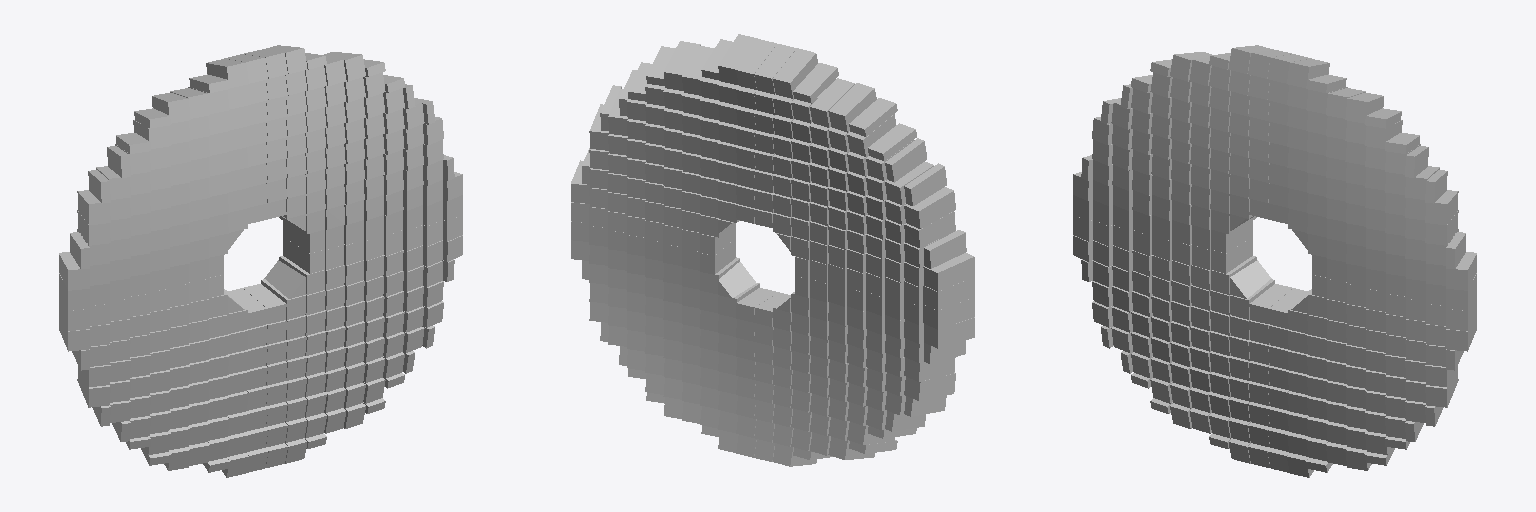
The model's file is EEplus.obj.
The picture shows the model from 3 angles: view 1: azimuth 30°, elevation 25°; view 2: azimuth 150°, elevation 25°; view 3: azimuth 330°, elevation 25°; orthographic projection.
Parts seen in each view (by area): view 1: Mesh157 eregalgo_EESCEnv5_materials_Air1 lp_eregalgo_EESCEnv5_2 , Mesh345 eregalgo_EESCEnv1_materials_Air152 lp_eregalgo_EESCEnv1_, Mesh453 eregalgo_EESCEnv1_materials_Air206 lp_eregalgo_EESCEnv1_, Mesh397 eregalgo_EESCEnv1_materials_Air178 lp_eregalgo_EESCEnv1_, Mesh159 eregalgo_EESCEnv6_materials_Air1 lp_eregalgo_EESCEnv6_2 , Mesh449 eregalgo_EESCEnv1_materials_Air204 lp_eregalgo_EESCEnv1_, Mesh311 eregalgo_EESCEnv4_materials_Air1 lp_eregalgo_EESCEnv4_2 , Mesh3 eregalgo_EESCEnv6_materials_Air lp_eregalgo_EESCEnv6_1 lp_, Mesh623 eregalgo_EESCEnv4_materials_Air3 lp_eregalgo_EESCEnv4_4 , Mesh447 eregalgo_EESCEnv1_materials_Air203 lp_eregalgo_EESCEnv1_, Mesh605 eregalgo_EESCEnv1_materials_Air273 lp_eregalgo_EESCEnv1_, Mesh379 eregalgo_EESCEnv1_materials_Air169 lp_eregalgo_EESCEnv1_ (+17 smaller); view 2: Mesh397 eregalgo_EESCEnv1_materials_Air178 lp_eregalgo_EESCEnv1_, Mesh449 eregalgo_EESCEnv1_materials_Air204 lp_eregalgo_EESCEnv1_, Mesh453 eregalgo_EESCEnv1_materials_Air206 lp_eregalgo_EESCEnv1_, Mesh345 eregalgo_EESCEnv1_materials_Air152 lp_eregalgo_EESCEnv1_, Mesh463 eregalgo_EESCEnv3_materials_Air7 lp_eregalgo_EESCEnv3_8 , Mesh465 eregalgo_EESCEnv3_materials_Air8 lp_eregalgo_EESCEnv3_9 , Mesh461 eregalgo_EESCEnv3_materials_Air6 lp_eregalgo_EESCEnv3_7 , Mesh455 eregalgo_EESCEnv2_materials_Air6 lp_eregalgo_EESCEnv2_7 , Mesh451 eregalgo_EESCEnv1_materials_Air205 lp_eregalgo_EESCEnv1_, Mesh457 eregalgo_EESCEnv2_materials_Air7 lp_eregalgo_EESCEnv2_8 , Mesh607 eregalgo_EESCEnv1_materials_Air274 lp_eregalgo_EESCEnv1_, Mesh447 eregalgo_EESCEnv1_materials_Air203 lp_eregalgo_EESCEnv1_ (+26 smaller); view 3: Mesh469 eregalgo_EESCEnv5_materials_Air3 lp_eregalgo_EESCEnv5_4 , Mesh33 eregalgo_EESCEnv1_materials_Air14 lp_eregalgo_EESCEnv1_15, Mesh141 eregalgo_EESCEnv1_materials_Air68 lp_eregalgo_EESCEnv1_6, Mesh85 eregalgo_EESCEnv1_materials_Air40 lp_eregalgo_EESCEnv1_41, Mesh137 eregalgo_EESCEnv1_materials_Air66 lp_eregalgo_EESCEnv1_6, Mesh471 eregalgo_EESCEnv6_materials_Air3 lp_eregalgo_EESCEnv6_4 , Mesh623 eregalgo_EESCEnv4_materials_Air3 lp_eregalgo_EESCEnv4_4 , Mesh315 eregalgo_EESCEnv6_materials_Air2 lp_eregalgo_EESCEnv6_3 , Mesh311 eregalgo_EESCEnv4_materials_Air1 lp_eregalgo_EESCEnv4_2 , Mesh135 eregalgo_EESCEnv1_materials_Air65 lp_eregalgo_EESCEnv1_6, Mesh293 eregalgo_EESCEnv1_materials_Air135 lp_eregalgo_EESCEnv1_, Mesh67 eregalgo_EESCEnv1_materials_Air31 lp_eregalgo_EESCEnv1_32 (+17 smaller).
Part boxes in pixels (x1,y1,x2,y2): Mesh157 eregalgo_EESCEnv5_materials_Air1 lp_eregalgo_EESCEnv5_2 : (264,260,305,298); Mesh345 eregalgo_EESCEnv1_materials_Air152 lp_eregalgo_EESCEnv1_: (206,59,248,87); Mesh453 eregalgo_EESCEnv1_materials_Air206 lp_eregalgo_EESCEnv1_: (59,252,89,290); Mesh397 eregalgo_EESCEnv1_materials_Air178 lp_eregalgo_EESCEnv1_: (152,93,190,123); Mesh159 eregalgo_EESCEnv6_materials_Air1 lp_eregalgo_EESCEnv6_2 : (283,237,324,273); Mesh449 eregalgo_EESCEnv1_materials_Air204 lp_eregalgo_EESCEnv1_: (77,190,110,224); Mesh311 eregalgo_EESCEnv4_materials_Air1 lp_eregalgo_EESCEnv4_2 : (243,284,286,323); Mesh3 eregalgo_EESCEnv6_materials_Air lp_eregalgo_EESCEnv6_1 lp_: (283,221,324,253); Mesh623 eregalgo_EESCEnv4_materials_Air3 lp_eregalgo_EESCEnv4_4 : (228,288,266,328); Mesh447 eregalgo_EESCEnv1_materials_Air203 lp_eregalgo_EESCEnv1_: (77,210,110,245); Mesh605 eregalgo_EESCEnv1_materials_Air273 lp_eregalgo_EESCEnv1_: (77,366,110,407); Mesh379 eregalgo_EESCEnv1_materials_Air169 lp_eregalgo_EESCEnv1_: (170,88,209,118); Mesh397 eregalgo_EESCEnv1_materials_Air178 lp_eregalgo_EESCEnv1_: (828,83,876,132); Mesh449 eregalgo_EESCEnv1_materials_Air204 lp_eregalgo_EESCEnv1_: (904,187,955,228); Mesh453 eregalgo_EESCEnv1_materials_Air206 lp_eregalgo_EESCEnv1_: (923,253,974,291); Mesh345 eregalgo_EESCEnv1_materials_Air152 lp_eregalgo_EESCEnv1_: (773,48,817,98); Mesh463 eregalgo_EESCEnv3_materials_Air7 lp_eregalgo_EESCEnv3_8 : (904,163,946,205); Mesh465 eregalgo_EESCEnv3_materials_Air8 lp_eregalgo_EESCEnv3_9 : (924,230,966,268); Mesh461 eregalgo_EESCEnv3_materials_Air6 lp_eregalgo_EESCEnv3_7 : (885,138,926,182); Mesh455 eregalgo_EESCEnv2_materials_Air6 lp_eregalgo_EESCEnv2_7 : (793,63,838,103); Mesh451 eregalgo_EESCEnv1_materials_Air205 lp_eregalgo_EESCEnv1_: (923,277,974,310); Mesh457 eregalgo_EESCEnv2_materials_Air7 lp_eregalgo_EESCEnv2_8 : (849,98,897,136); Mesh607 eregalgo_EESCEnv1_materials_Air274 lp_eregalgo_EESCEnv1_: (923,297,974,329); Mesh447 eregalgo_EESCEnv1_materials_Air203 lp_eregalgo_EESCEnv1_: (904,211,955,248); Mesh469 eregalgo_EESCEnv5_materials_Air3 lp_eregalgo_EESCEnv5_4 : (1230,260,1271,298); Mesh33 eregalgo_EESCEnv1_materials_Air14 lp_eregalgo_EESCEnv1_15: (1287,59,1329,87); Mesh141 eregalgo_EESCEnv1_materials_Air68 lp_eregalgo_EESCEnv1_6: (1446,252,1476,290); Mesh85 eregalgo_EESCEnv1_materials_Air40 lp_eregalgo_EESCEnv1_41: (1345,93,1383,123); Mesh137 eregalgo_EESCEnv1_materials_Air66 lp_eregalgo_EESCEnv1_6: (1425,190,1458,224); Mesh471 eregalgo_EESCEnv6_materials_Air3 lp_eregalgo_EESCEnv6_4 : (1211,237,1252,273); Mesh623 eregalgo_EESCEnv4_materials_Air3 lp_eregalgo_EESCEnv4_4 : (1249,284,1292,323); Mesh315 eregalgo_EESCEnv6_materials_Air2 lp_eregalgo_EESCEnv6_3 : (1211,221,1252,253); Mesh311 eregalgo_EESCEnv4_materials_Air1 lp_eregalgo_EESCEnv4_2 : (1269,288,1307,328); Mesh135 eregalgo_EESCEnv1_materials_Air65 lp_eregalgo_EESCEnv1_6: (1425,210,1458,245); Mesh293 eregalgo_EESCEnv1_materials_Air135 lp_eregalgo_EESCEnv1_: (1425,366,1458,407); Mesh67 eregalgo_EESCEnv1_materials_Air31 lp_eregalgo_EESCEnv1_32: (1326,88,1365,118).
Size of the model in its own units: 3.21 by 3.19 by 0.3916.